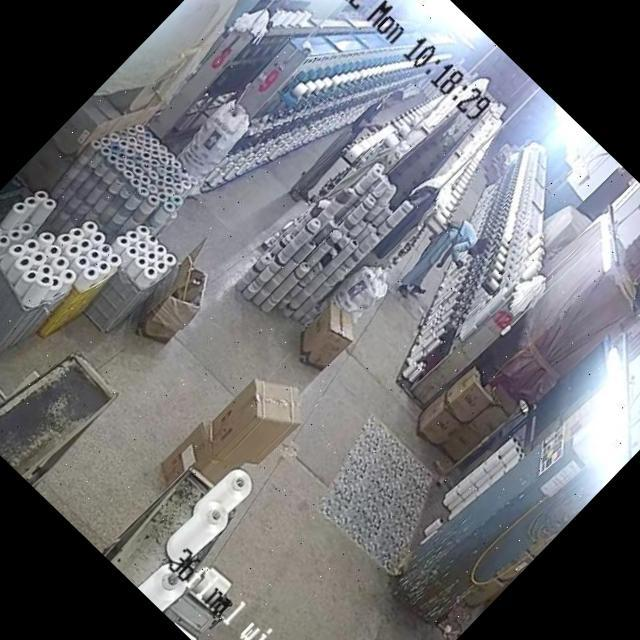person: (288, 80, 402, 196), (385, 211, 490, 318)
